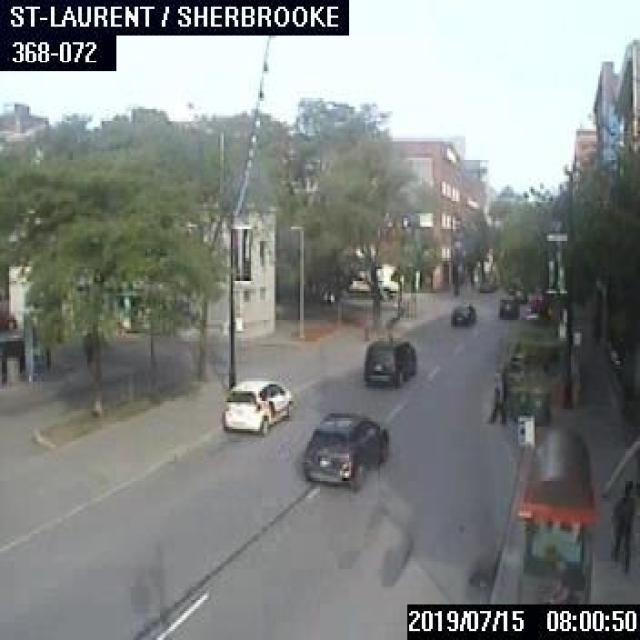pedestrian: (609, 476, 635, 571), (490, 366, 506, 422)
vehicle: (300, 409, 385, 487), (220, 374, 291, 434), (362, 334, 416, 384), (447, 302, 475, 324), (497, 298, 518, 320), (518, 302, 536, 321)
